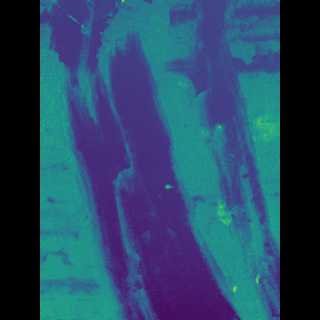Loch: (69, 0, 250, 320)
